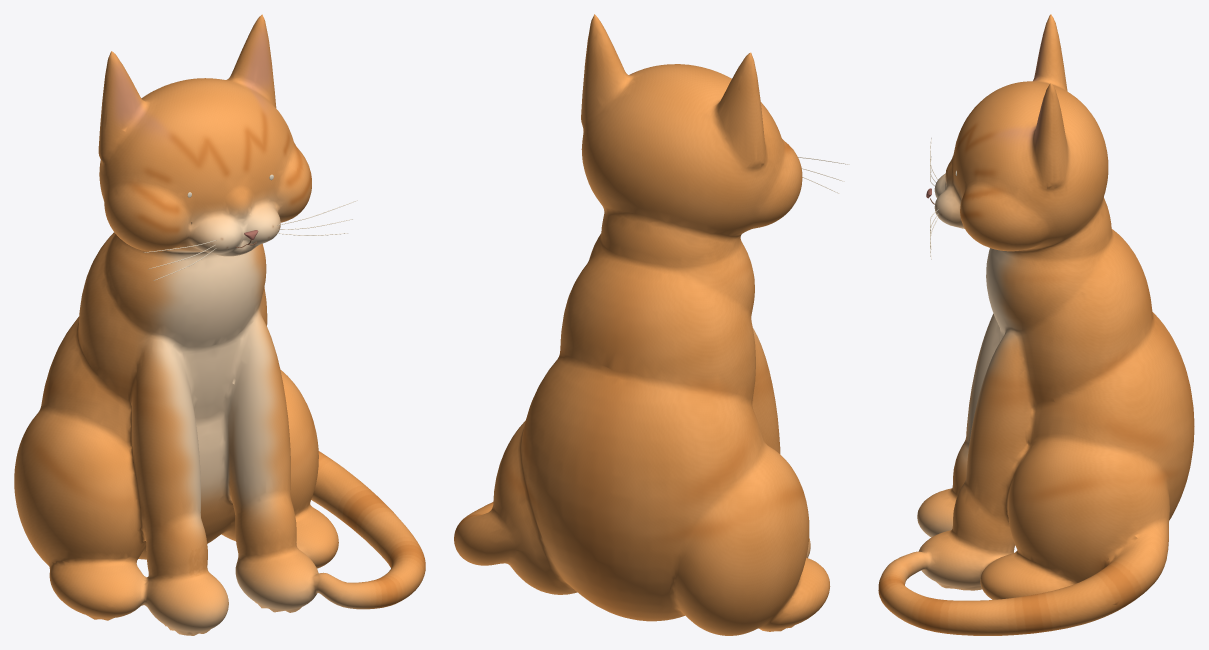
File: orange-cat.glb
3 views of the same model, side by side, from view 1: azimuth 30°, elevation 25°; view 2: azimuth 150°, elevation 25°; view 3: azimuth 270°, elevation 25° (orthographic). The views are drawn at different scales.
Visible parts, largest first — view 1: OrangeCat_Fur; view 2: OrangeCat_Fur; view 3: OrangeCat_Fur.
Boxes of the visible parts, bbox=[...] form: OrangeCat_Fur: bbox=[14, 14, 425, 635]; OrangeCat_Fur: bbox=[454, 14, 830, 635]; OrangeCat_Fur: bbox=[878, 14, 1194, 635].
Bounding box in the file's own units: 0.5541 × 0.8848 × 0.4929.
6 materials, 1 textured.
